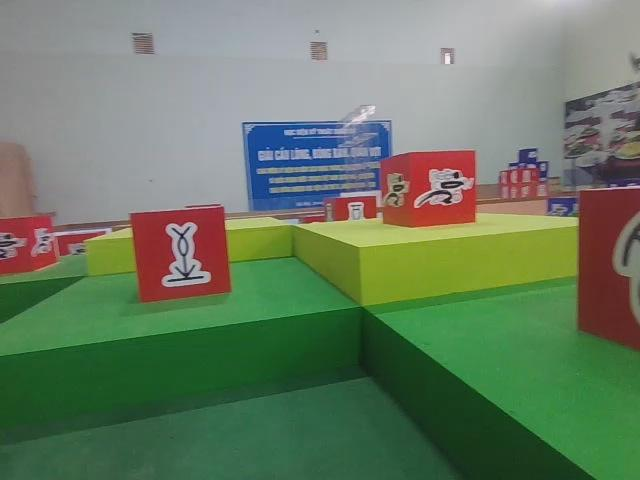R1: (378, 150, 476, 227), (0, 211, 59, 277)
R2 Real: (131, 207, 231, 304)
